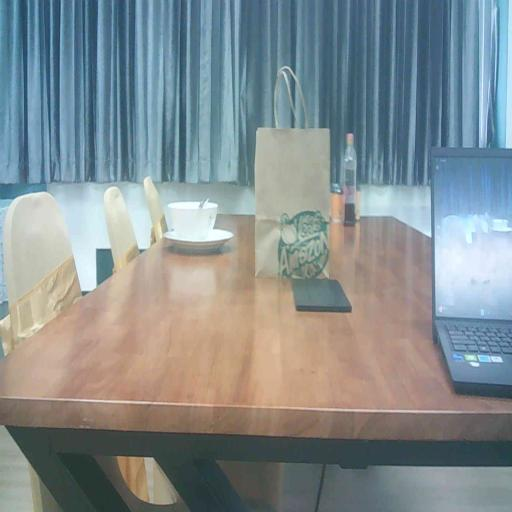bag: (249, 114, 335, 286)
